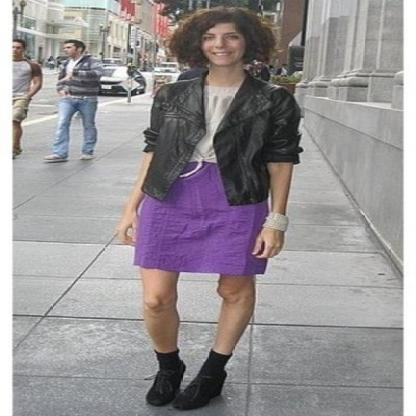jacket: (141, 63, 302, 205)
shirt: (189, 85, 236, 162)
shoe: (146, 368, 226, 411)
skirt: (117, 161, 285, 274)
